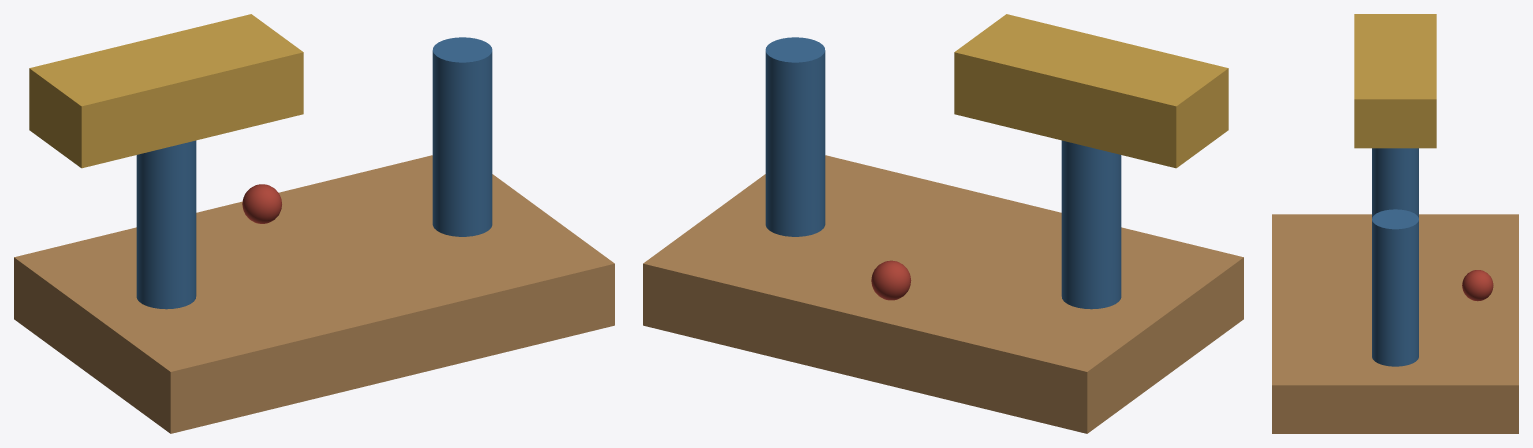
Rendered from frames_placement.glb.
3 views of the same model, side by side, from view 1: azimuth 30°, elevation 25°; view 2: azimuth 150°, elevation 25°; view 3: azimuth 270°, elevation 25° (orthographic). The views are drawn at different scales.
Visible parts, largest first — view 1: base, cap, peg, pivot; view 2: base, cap, peg, pivot; view 3: base, cap, peg, pivot.
Boxes of the visible parts, x1,y1,x2,y2 form: base: [14, 155, 614, 433]; cap: [29, 14, 303, 168]; peg: [136, 37, 492, 309]; pivot: [242, 184, 281, 223]; base: [643, 155, 1243, 433]; cap: [954, 14, 1228, 168]; peg: [765, 37, 1121, 309]; pivot: [871, 260, 911, 300]; base: [1272, 214, 1518, 433]; cap: [1354, 14, 1436, 148]; peg: [1372, 148, 1418, 366]; pivot: [1462, 270, 1493, 301].
Bounding box in the file's own units: 0.0975 × 0.0578 × 0.055.
